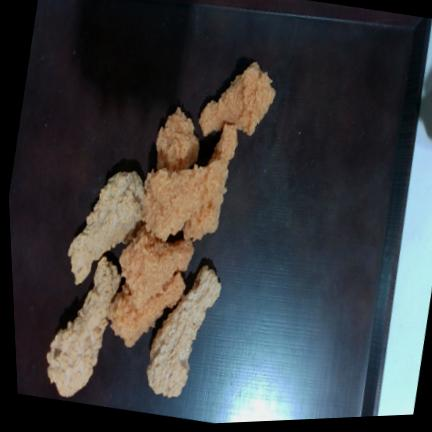chicken: (47, 257, 120, 397), (147, 265, 221, 397), (68, 171, 144, 284), (142, 160, 227, 241), (120, 227, 193, 308), (199, 62, 276, 136)
